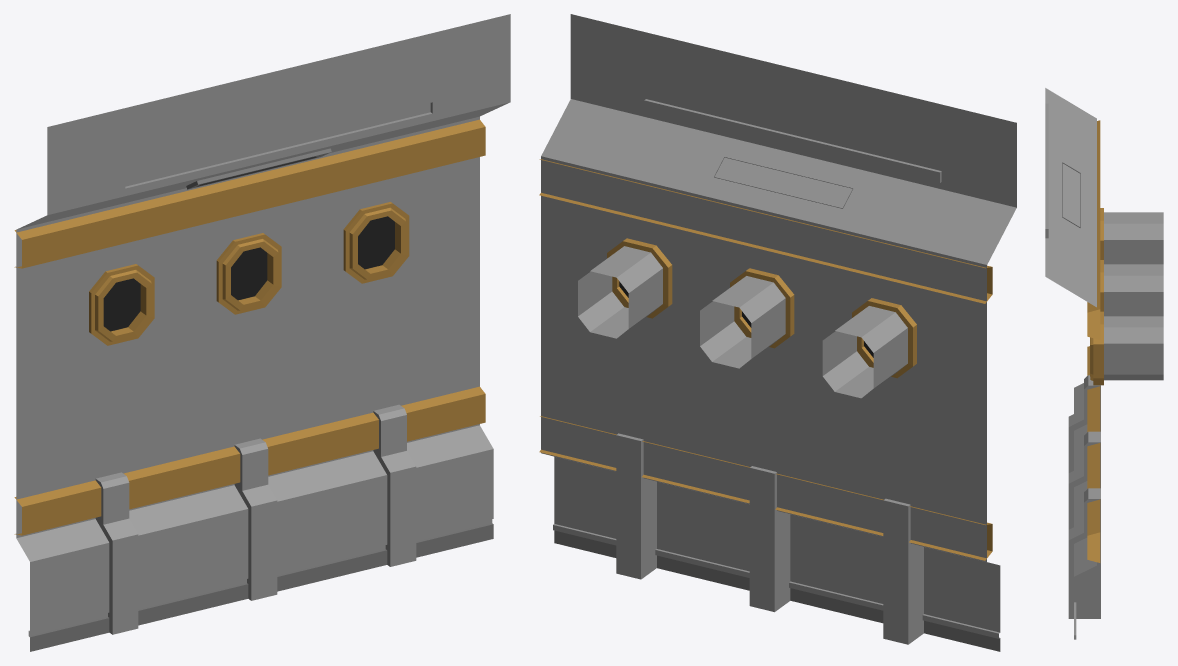
Rendered from SmallWindows_Wall_SideA.glb.
3 views of the same model, side by side, from view 1: azimuth 30°, elevation 25°; view 2: azimuth 150°, elevation 25°; view 3: azimuth 270°, elevation 25° (orthographic). The views are drawn at different scales.
Visible parts, largest first — view 1: SmallWindows_Wall_SideA; view 2: SmallWindows_Wall_SideA; view 3: SmallWindows_Wall_SideA.
Boxes of the visible parts, box(x1,y1,x2,y2) form: SmallWindows_Wall_SideA: box(14, 14, 510, 651); SmallWindows_Wall_SideA: box(539, 14, 1016, 651); SmallWindows_Wall_SideA: box(1045, 88, 1163, 639).
Bounding box in the file's own units: 1.36 × 1.51 × 0.3599.
